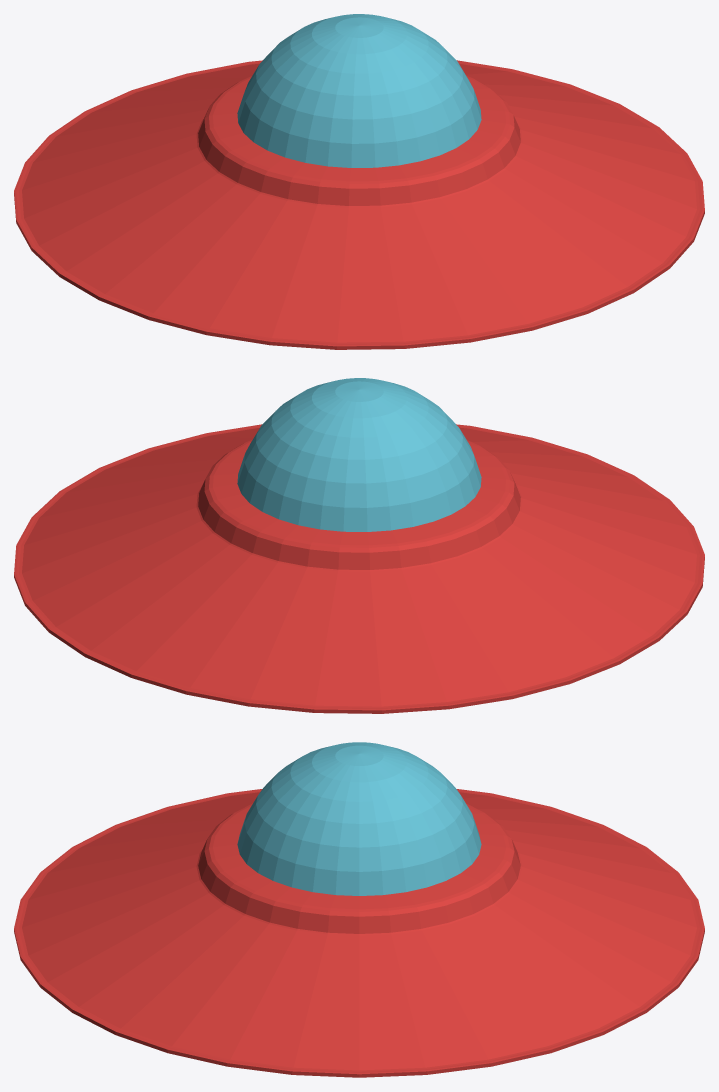
Rendered from ufo.fbx.
3 renders of one model, top to bottom at view 1: azimuth 30°, elevation 25°; view 2: azimuth 150°, elevation 25°; view 3: azimuth 270°, elevation 25°, orthographic.
Parts seen in each view (by area): view 1: UFO; view 2: UFO; view 3: UFO.
Part boxes in pixels (<box>): UFO: <box>14,14,704,349</box>; UFO: <box>14,378,704,713</box>; UFO: <box>14,742,704,1077</box>.
Bounding box in the file's own units: 2 × 0.6673 × 2.
